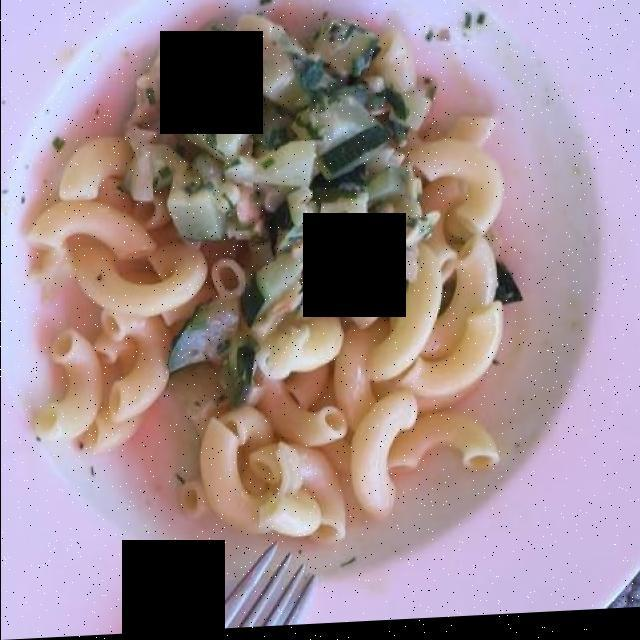pasta: (26, 14, 538, 535)
zucchini: (98, 26, 443, 380)
